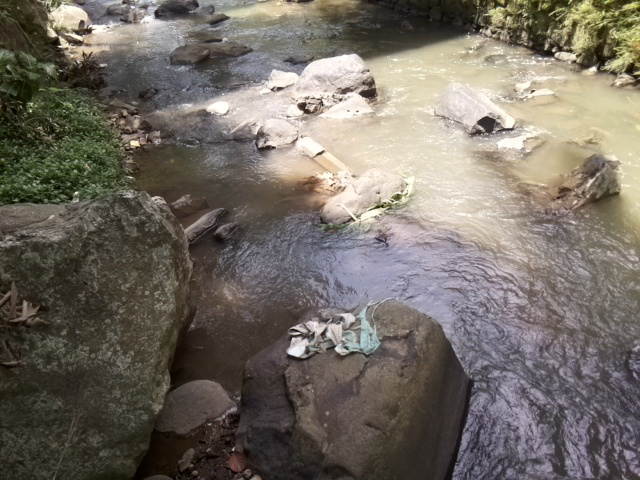Sampah_Plastik: (288, 312, 382, 361)
